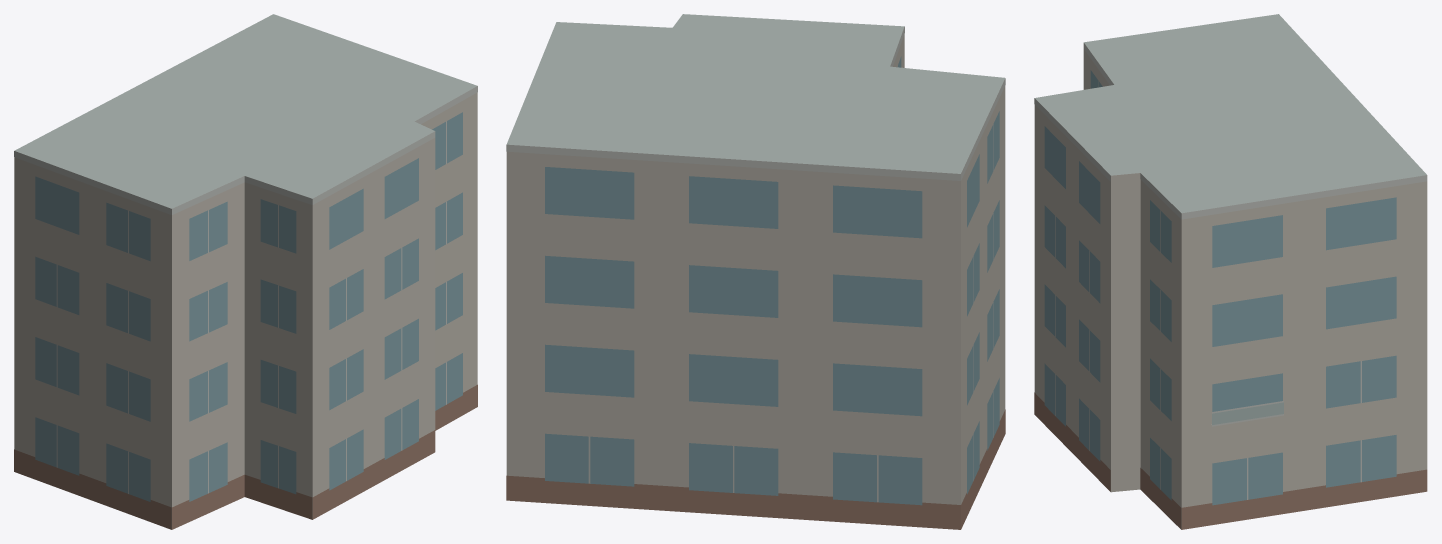
The model's file is survey-upis-32843135.glb.
3 views of the same model, side by side, from view 1: azimuth 30°, elevation 25°; view 2: azimuth 150°, elevation 25°; view 3: azimuth 270°, elevation 25° (orthographic). The views are drawn at different scales.
Visible parts, largest first — view 1: survey-upis-32843135.tmp; view 2: survey-upis-32843135.tmp; view 3: survey-upis-32843135.tmp.
Part boxes in pixels (left/top/right/bottom): survey-upis-32843135.tmp: left=14, top=14, right=477, bottom=529; survey-upis-32843135.tmp: left=506, top=14, right=1005, bottom=529; survey-upis-32843135.tmp: left=1034, top=14, right=1427, bottom=529.
Bounding box in the file's own units: 16.62 × 12.3 × 13.84.
